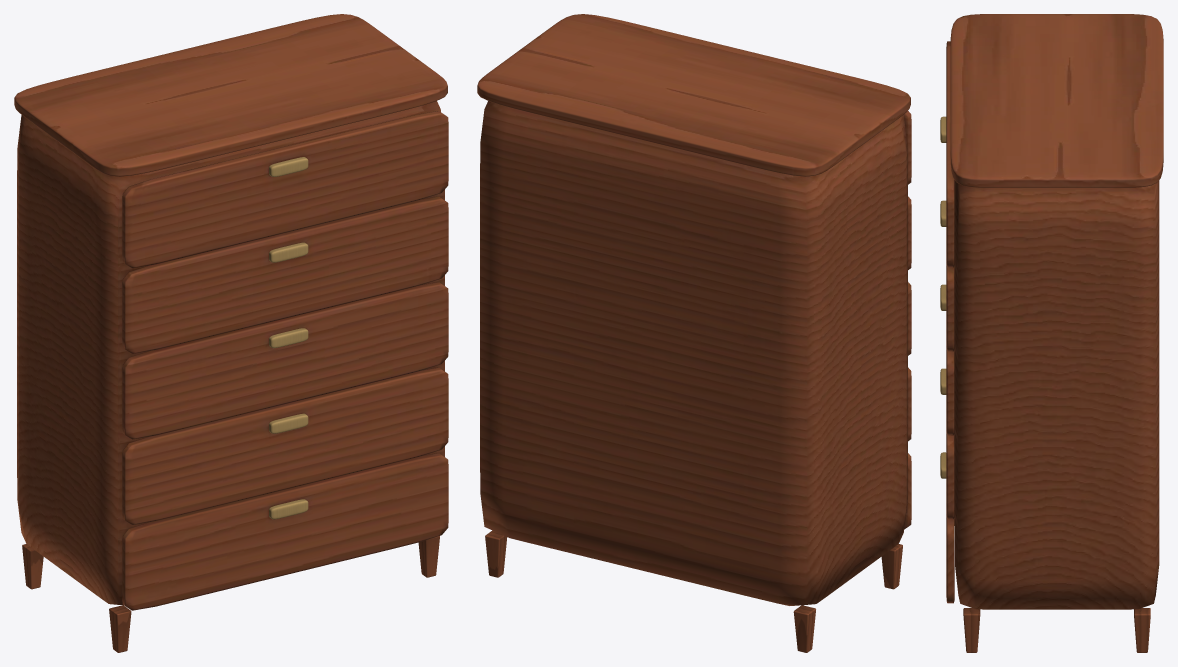
Rendered from cherry-tall-chest.glb.
The picture shows the model from 3 angles, left to right: view 1: azimuth 30°, elevation 25°; view 2: azimuth 150°, elevation 25°; view 3: azimuth 270°, elevation 25°; orthographic projection.
Parts seen in each view (by area): view 1: wood_h, brass_handle, wood_v; view 2: wood_h, wood_v; view 3: wood_h, wood_v, brass_handle.
Part boxes in pixels (box(x1,y1,x2,y2)): wood_h: box(14, 14, 448, 610); brass_handle: box(269, 157, 308, 519); wood_v: box(22, 536, 439, 652); wood_h: box(477, 14, 911, 605); wood_v: box(485, 530, 902, 652); wood_h: box(946, 14, 1163, 609); wood_v: box(963, 608, 1150, 652); brass_handle: box(940, 116, 946, 478).
Bounding box in the file's own units: 0.92 × 1.25 × 0.524.
Materials: 3 (3 with a texture image).
